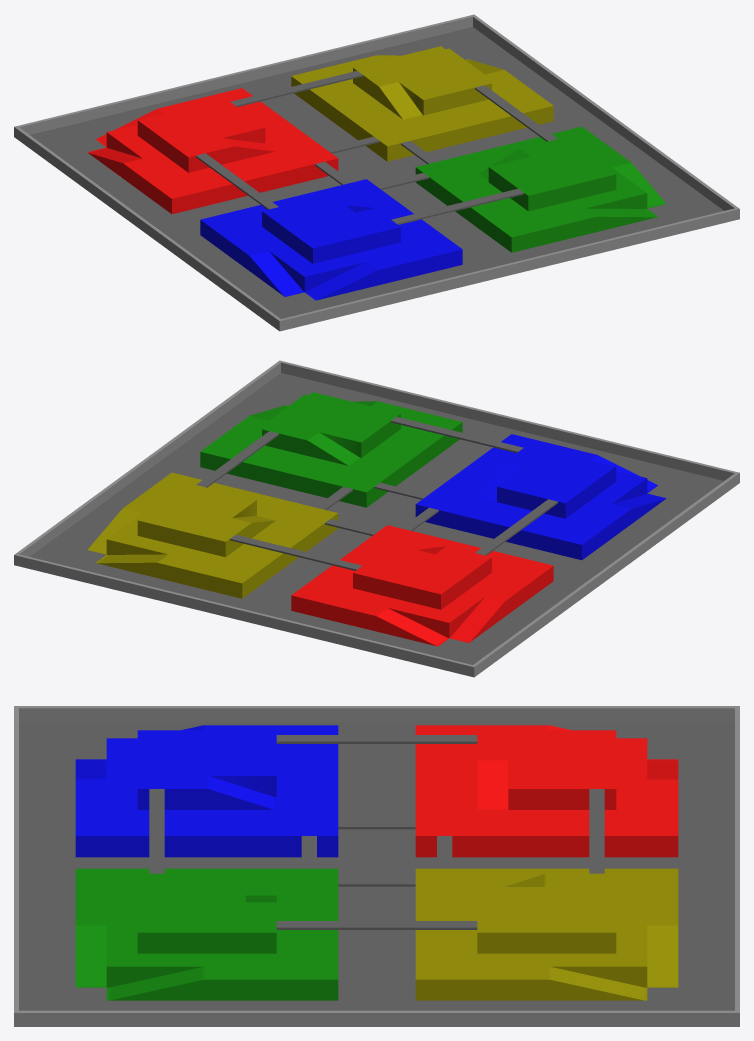
File: BlockFort6.FBX
3 views of the same model, one above another, from view 1: azimuth 30°, elevation 25°; view 2: azimuth 150°, elevation 25°; view 3: azimuth 270°, elevation 25° (orthographic). The views are drawn at different scales.
Parts seen in each view (by area): view 1: Map; view 2: Map; view 3: Map.
Part boxes in pixels (x1,y1,x2,y2): Map: (14, 14, 739, 331); Map: (14, 360, 739, 677); Map: (14, 706, 739, 1026).
Size of the model in its own units: 14747 by 944 by 14747.
